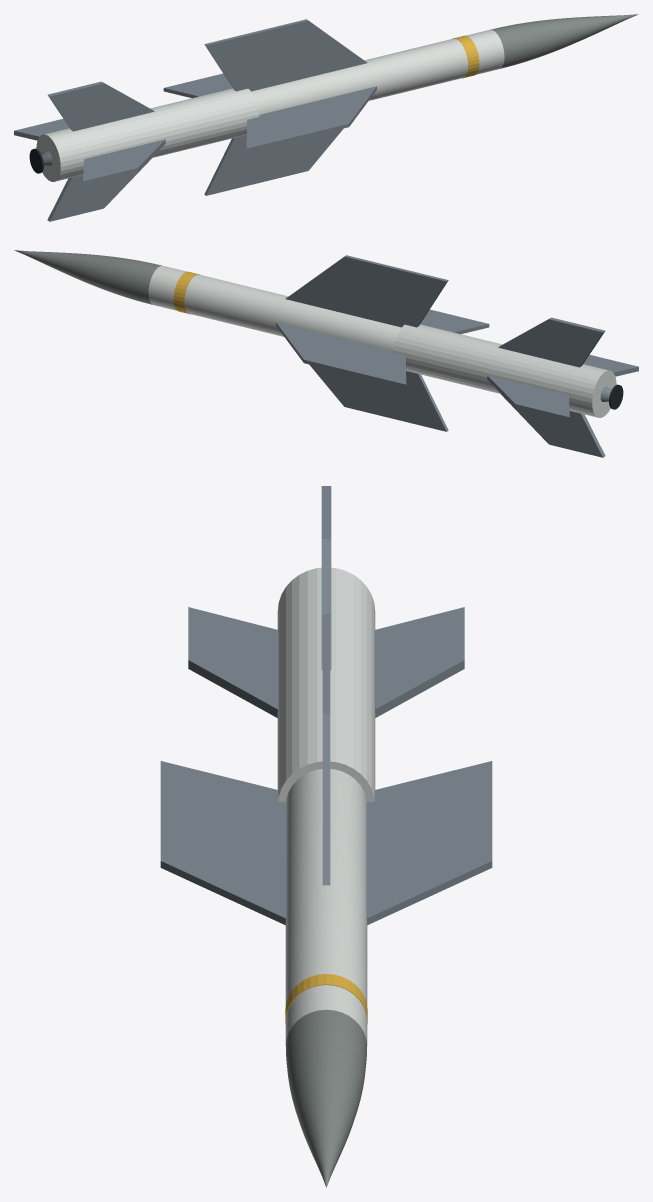
The model's file is sm3_family.glb.
The picture shows the model from 3 angles, top to bottom: view 1: azimuth 30°, elevation 25°; view 2: azimuth 150°, elevation 25°; view 3: azimuth 270°, elevation 25°; orthographic projection. The views are drawn at different scales.
Visible parts, largest first — view 1: sm3_family; view 2: sm3_family; view 3: sm3_family.
Boxes of the visible parts, <box> form: sm3_family: <box>14,14,638,221</box>; sm3_family: <box>14,250,638,457</box>; sm3_family: <box>160,486,492,1187</box>.
Size of the model in its own units: 10 by 2.38 by 2.38.
